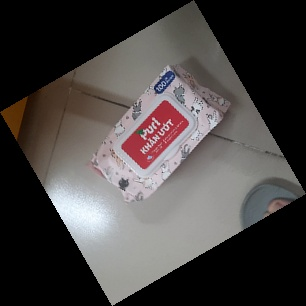Puri hong: (84, 63, 233, 203)
